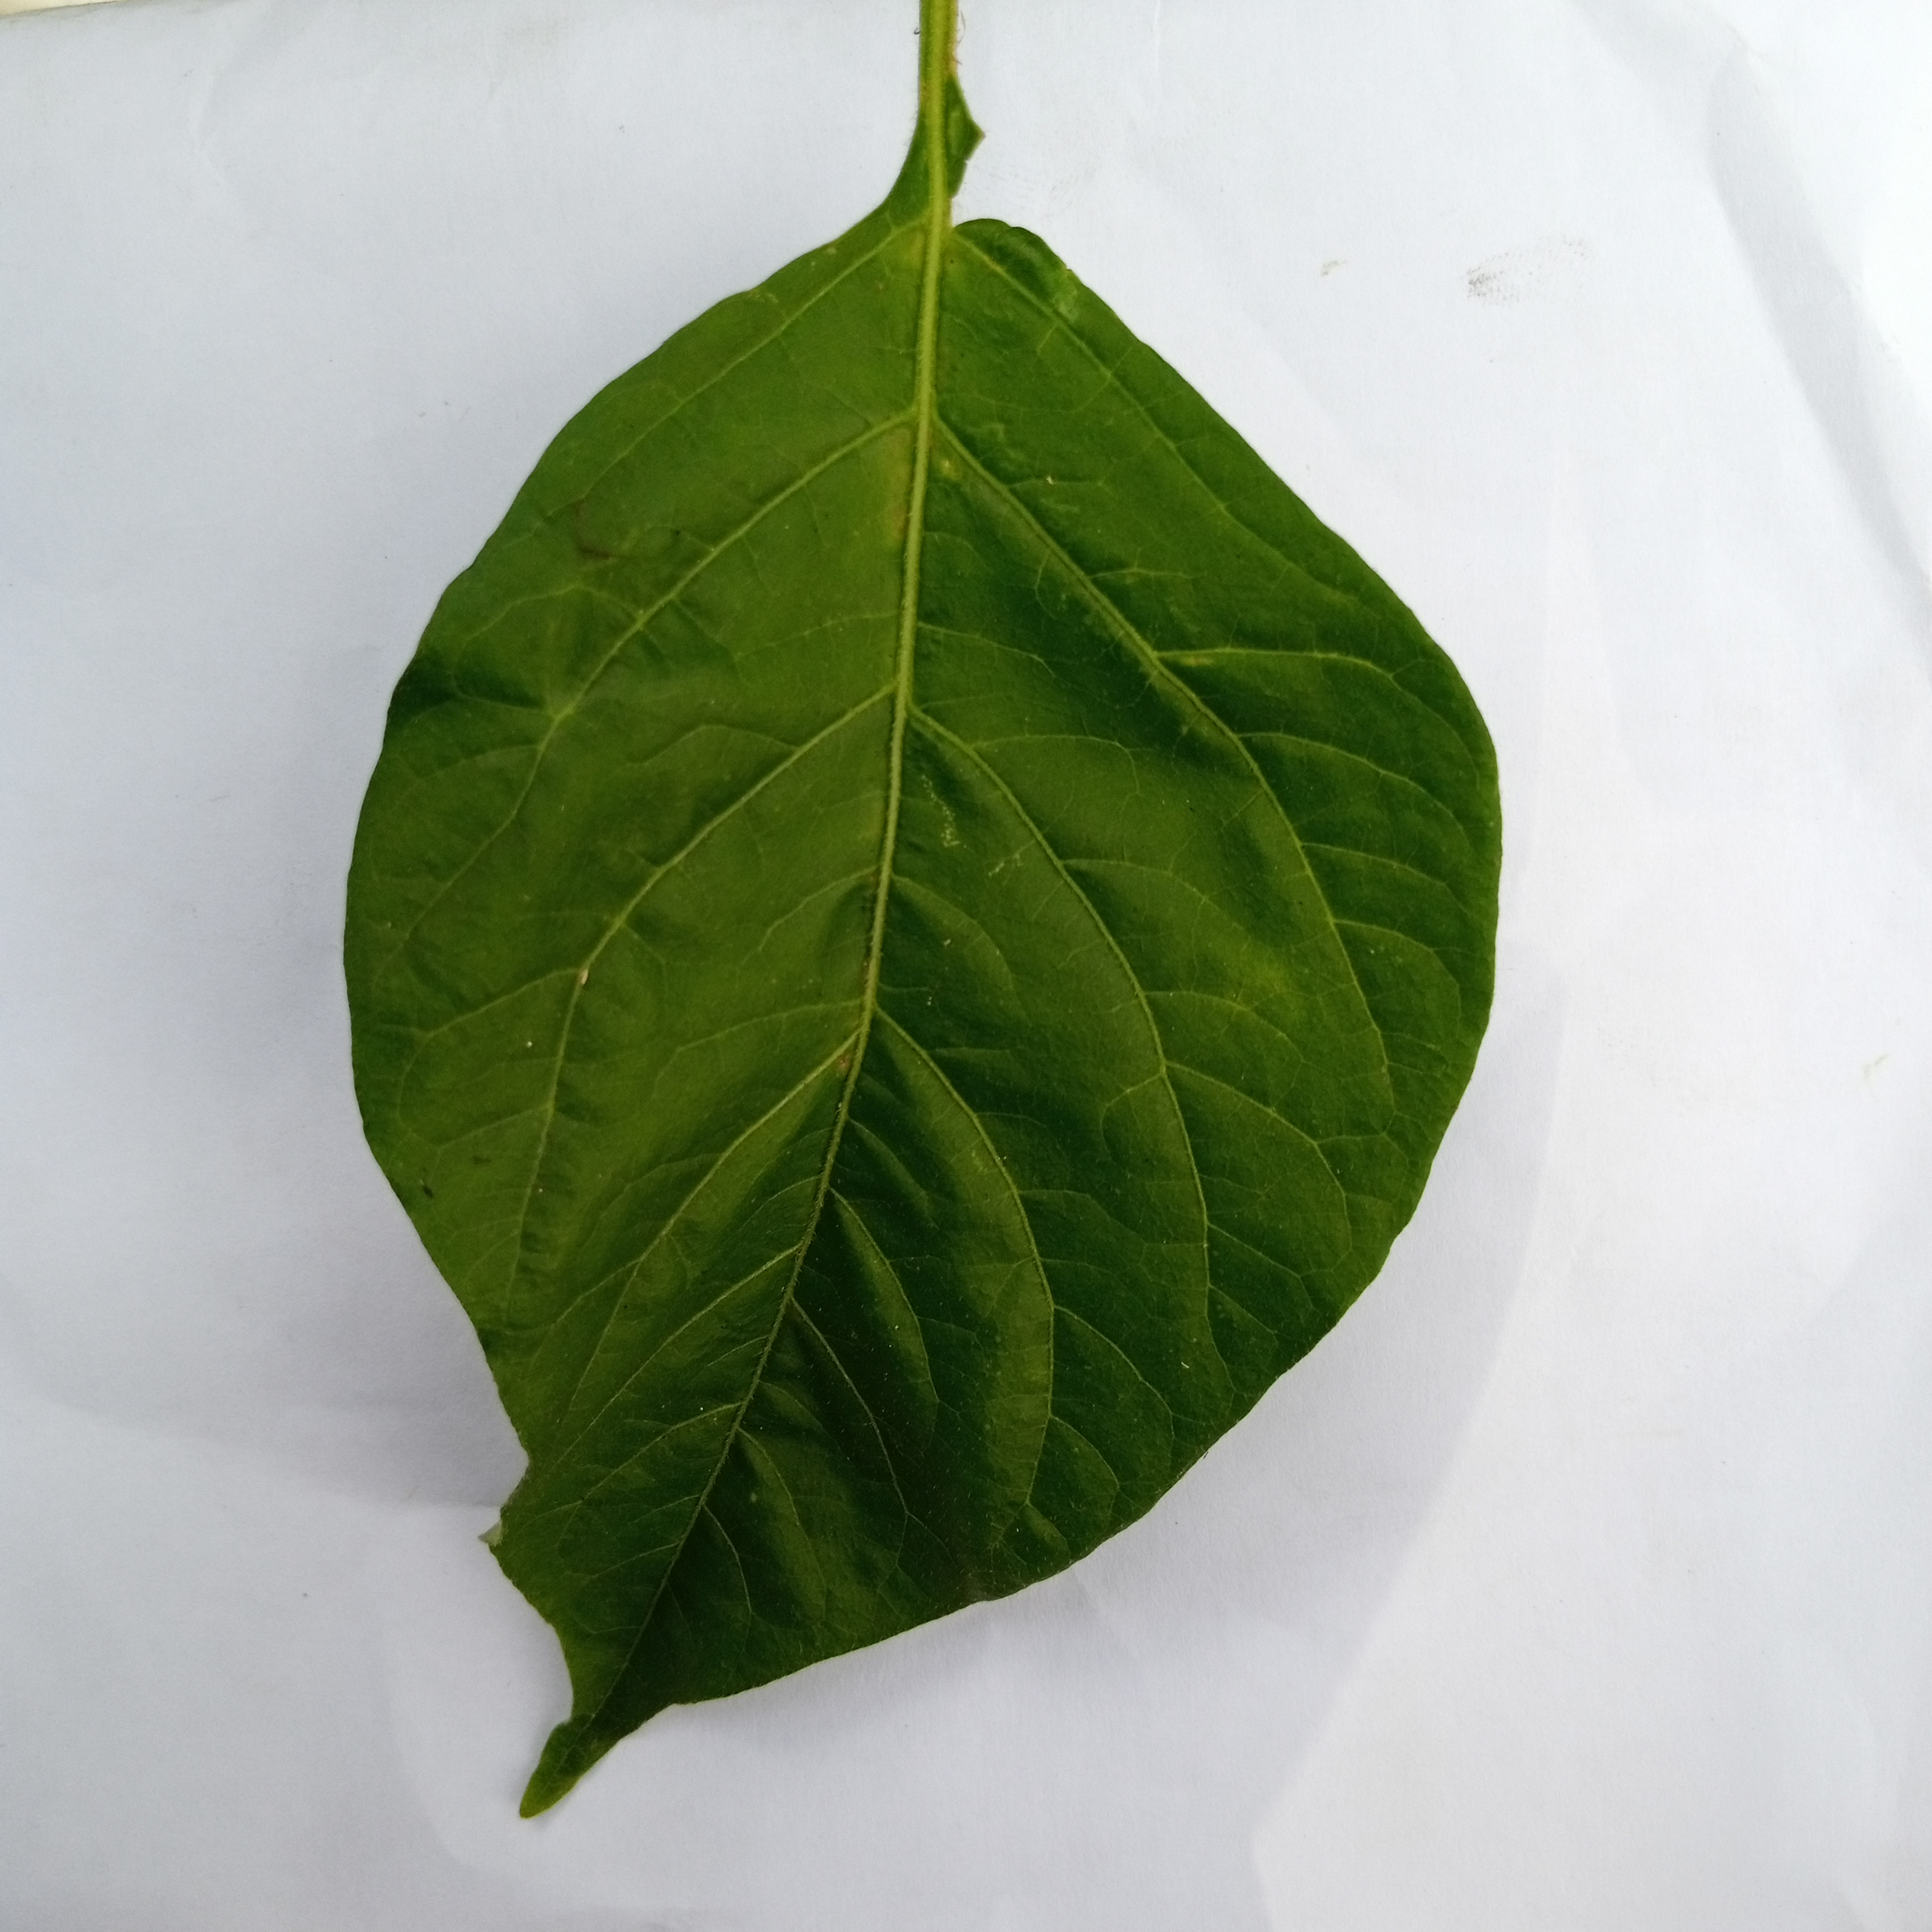Leaf: (280, 110, 1557, 1845)
